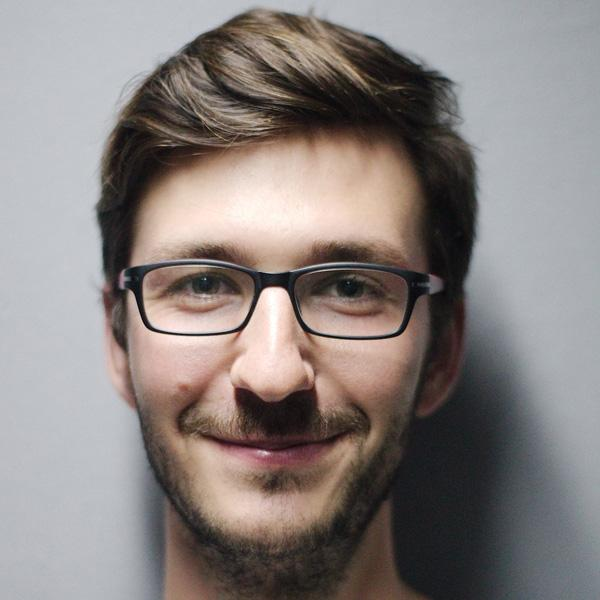Eyes: (308, 262, 395, 314), (162, 263, 247, 314)
